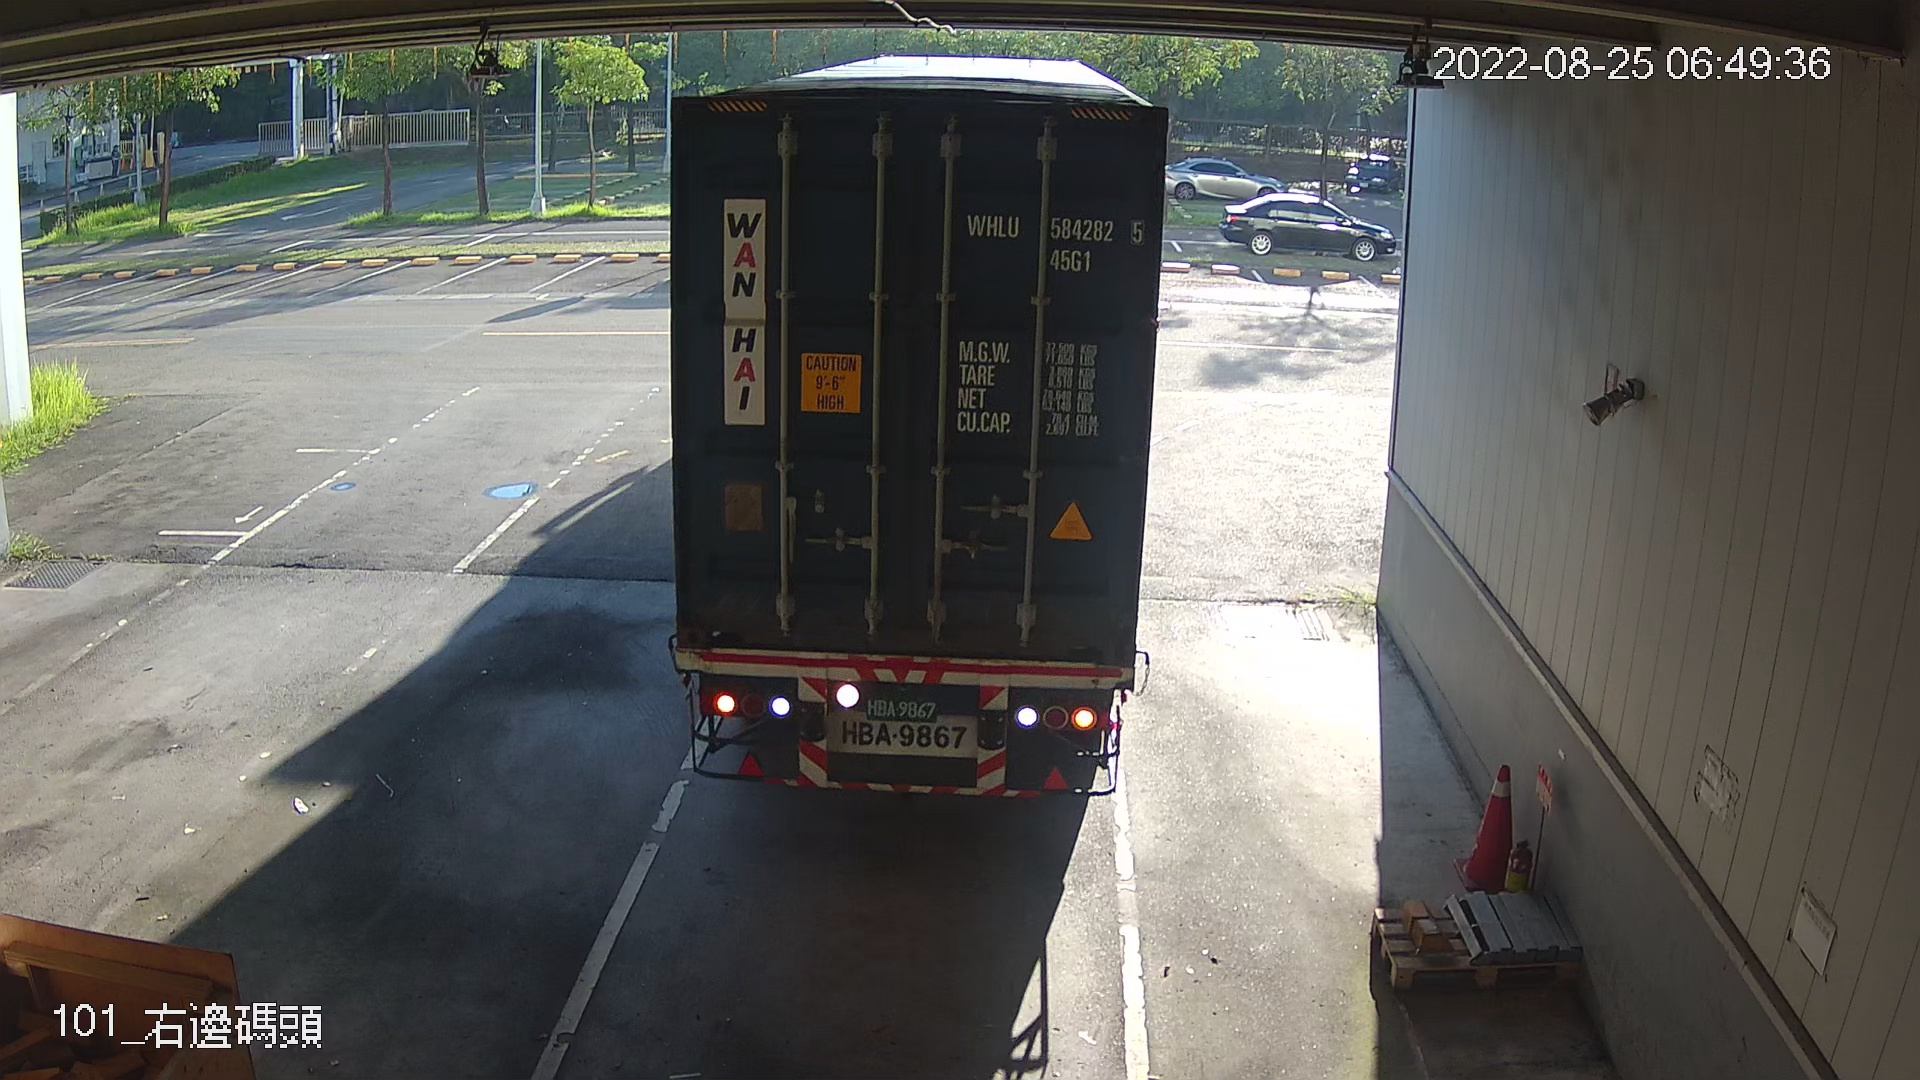container: (959, 200, 1156, 285)
